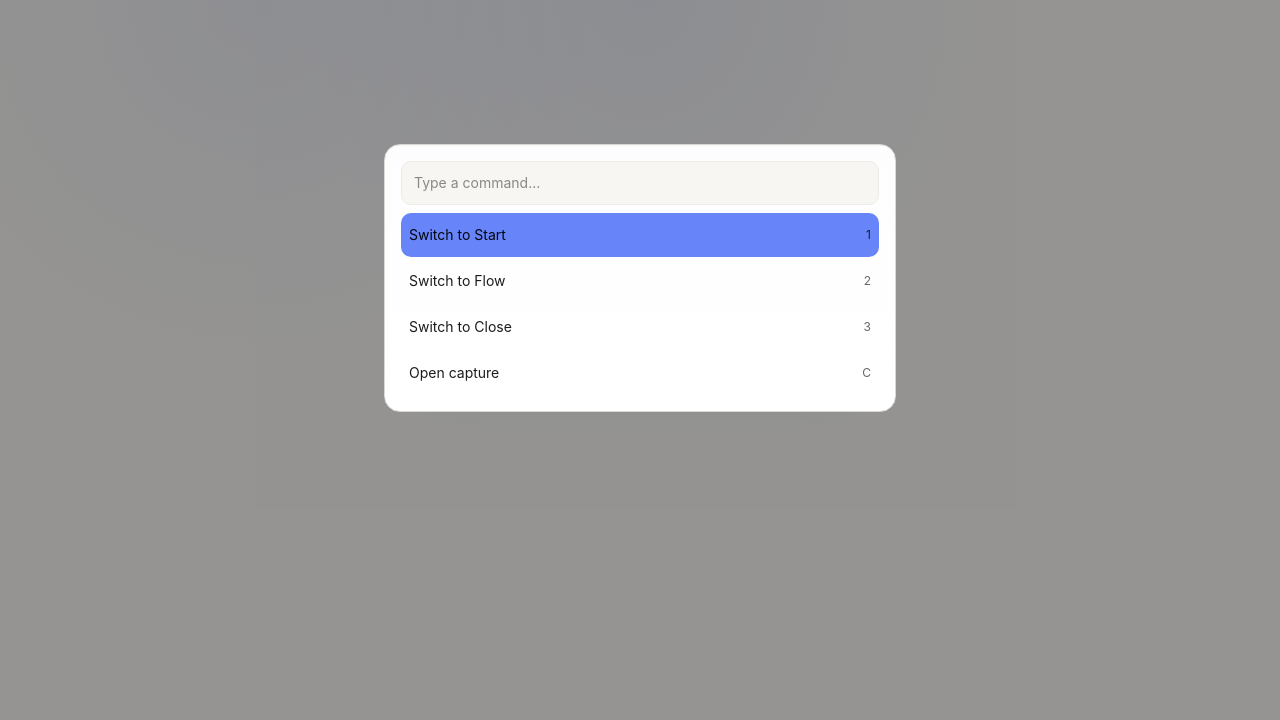
CommandPalette › zero-matches empty state names retrying or clearing the search as the filling action
Type "zzz-no-match" into the dropdown with test id "command-palette-input" at (640, 183), box x1=401 y1=161 x2=879 y2=205
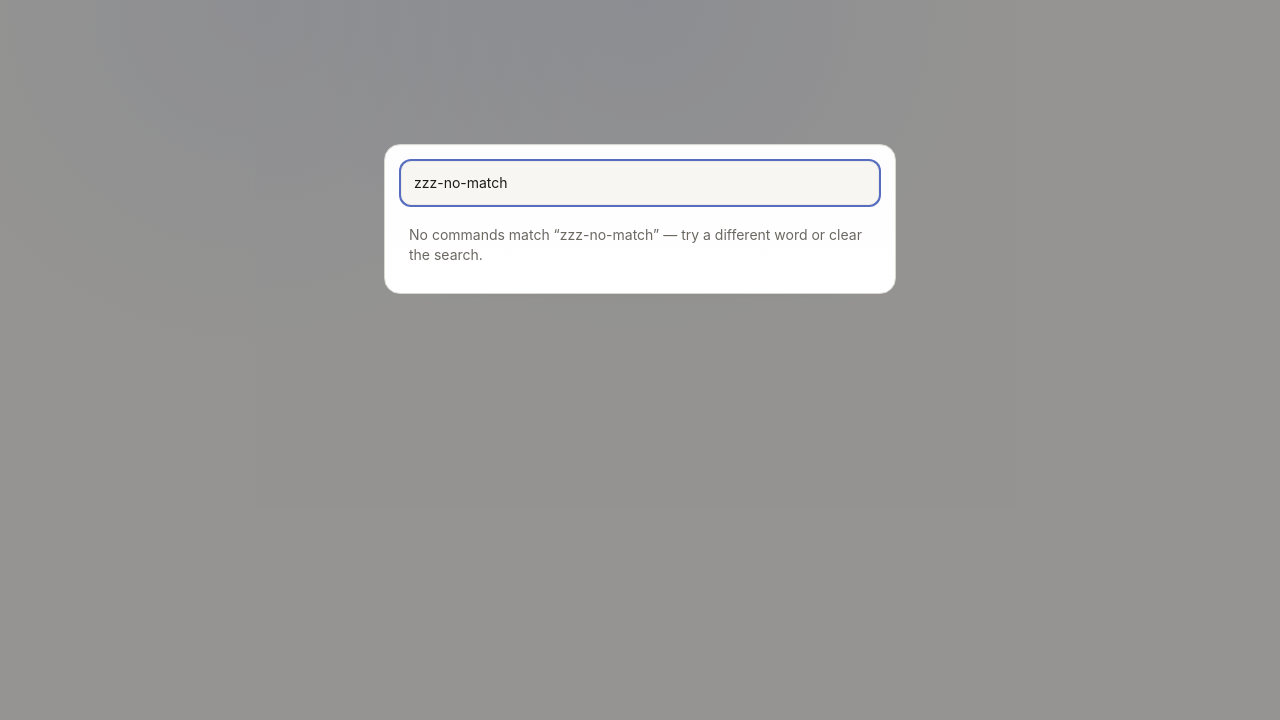
Expected: the list with test id "command-palette-list" shows "zzz-no-match", x1=560 y1=226 x2=653 y2=243
Expected: the list with test id "command-palette-list" shows "try a different word or clear the search", x1=409 y1=226 x2=862 y2=263
